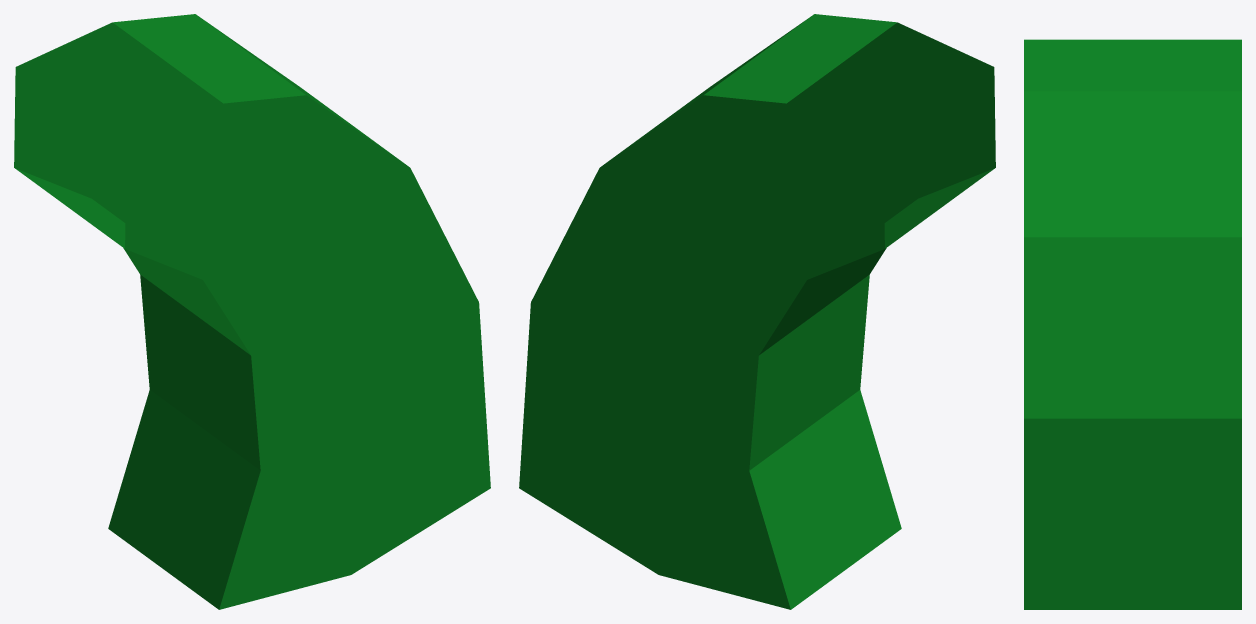
File: grip_01.fbx
3 renders of one model, left to right at view 1: azimuth 30°, elevation 25°; view 2: azimuth 150°, elevation 25°; view 3: azimuth 270°, elevation 25°, orthographic.
Parts seen in each view (by area): view 1: grip_2; view 2: grip_2; view 3: grip_2.
Boxes of the visible parts, box(x1,y1,x2,y2) form: grip_2: box(14, 14, 490, 609); grip_2: box(519, 14, 995, 609); grip_2: box(1024, 39, 1241, 609).
Bounding box in the file's own units: 298 × 393 × 156.
